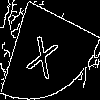X: (25, 25, 63, 80)
